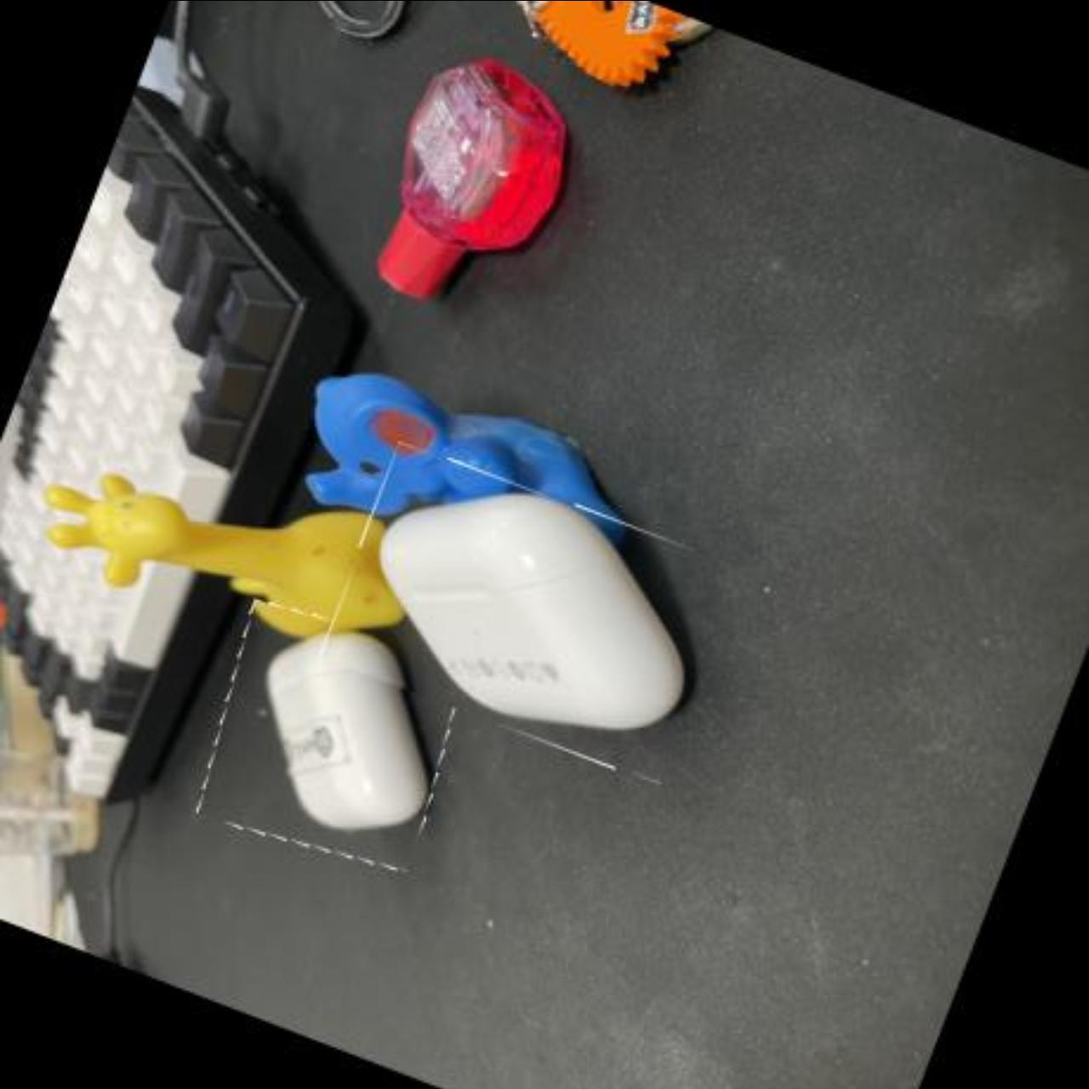AirPods: (319, 439, 744, 788), (184, 586, 482, 886)
